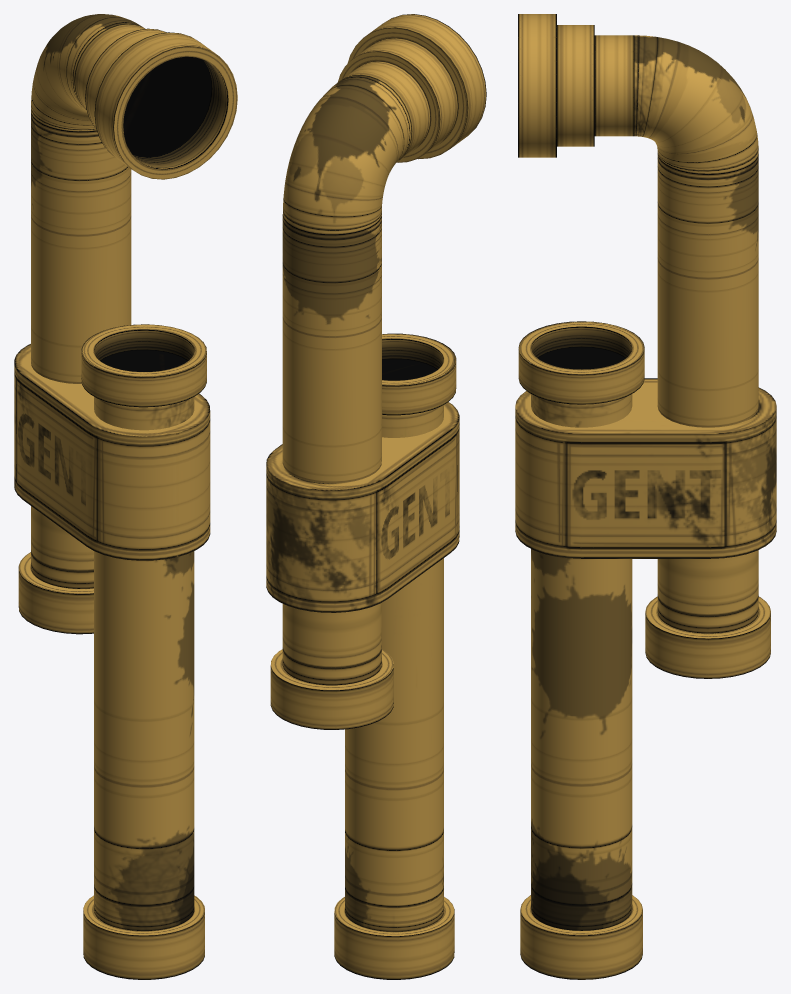
Rendered from GentPipe.fbx.
3 views of the same model, side by side, from view 1: azimuth 30°, elevation 25°; view 2: azimuth 150°, elevation 25°; view 3: azimuth 270°, elevation 25° (orthographic).
Visible parts, largest first — view 1: Cylinder.002; view 2: Cylinder.002; view 3: Cylinder.002.
Part boxes in pixels (x1=…): Cylinder.002: x1=14, y1=14, x2=237, y2=979; Cylinder.002: x1=266, y1=14, x2=486, y2=979; Cylinder.002: x1=515, y1=14, x2=776, y2=979.
Size of the model in its own units: 65.03 by 466 by 118.
